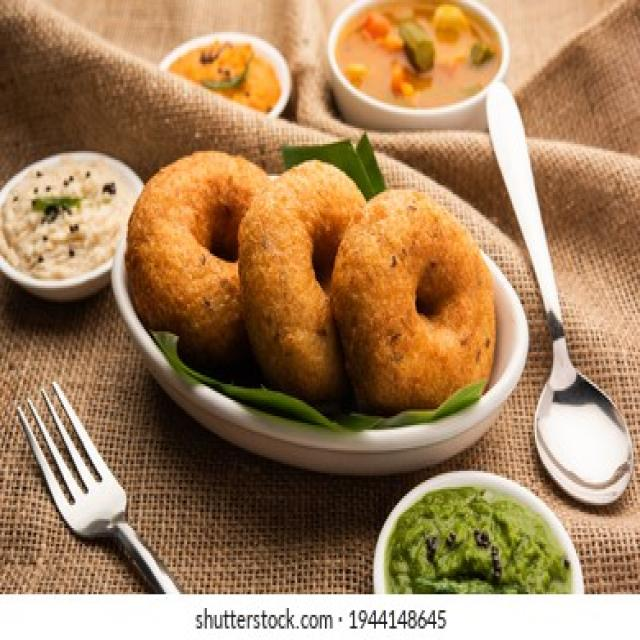MEDU VADA: (329, 189, 495, 409), (238, 158, 368, 404), (128, 149, 275, 355)
